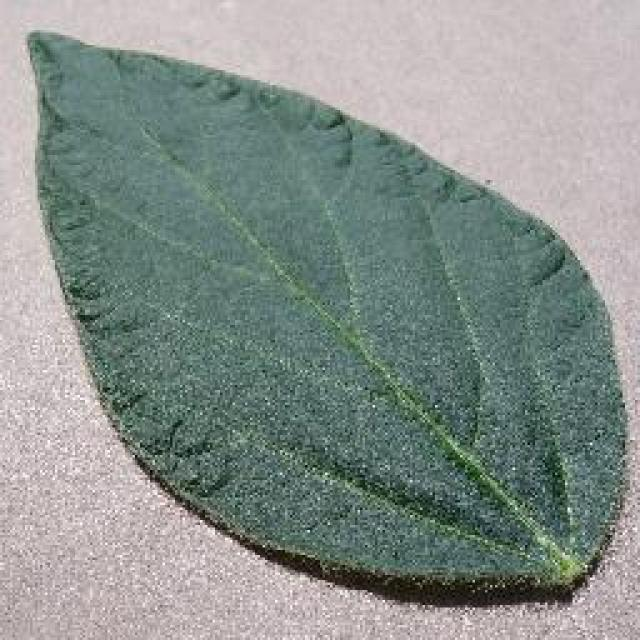Soy_healthy: (37, 75, 563, 549)
